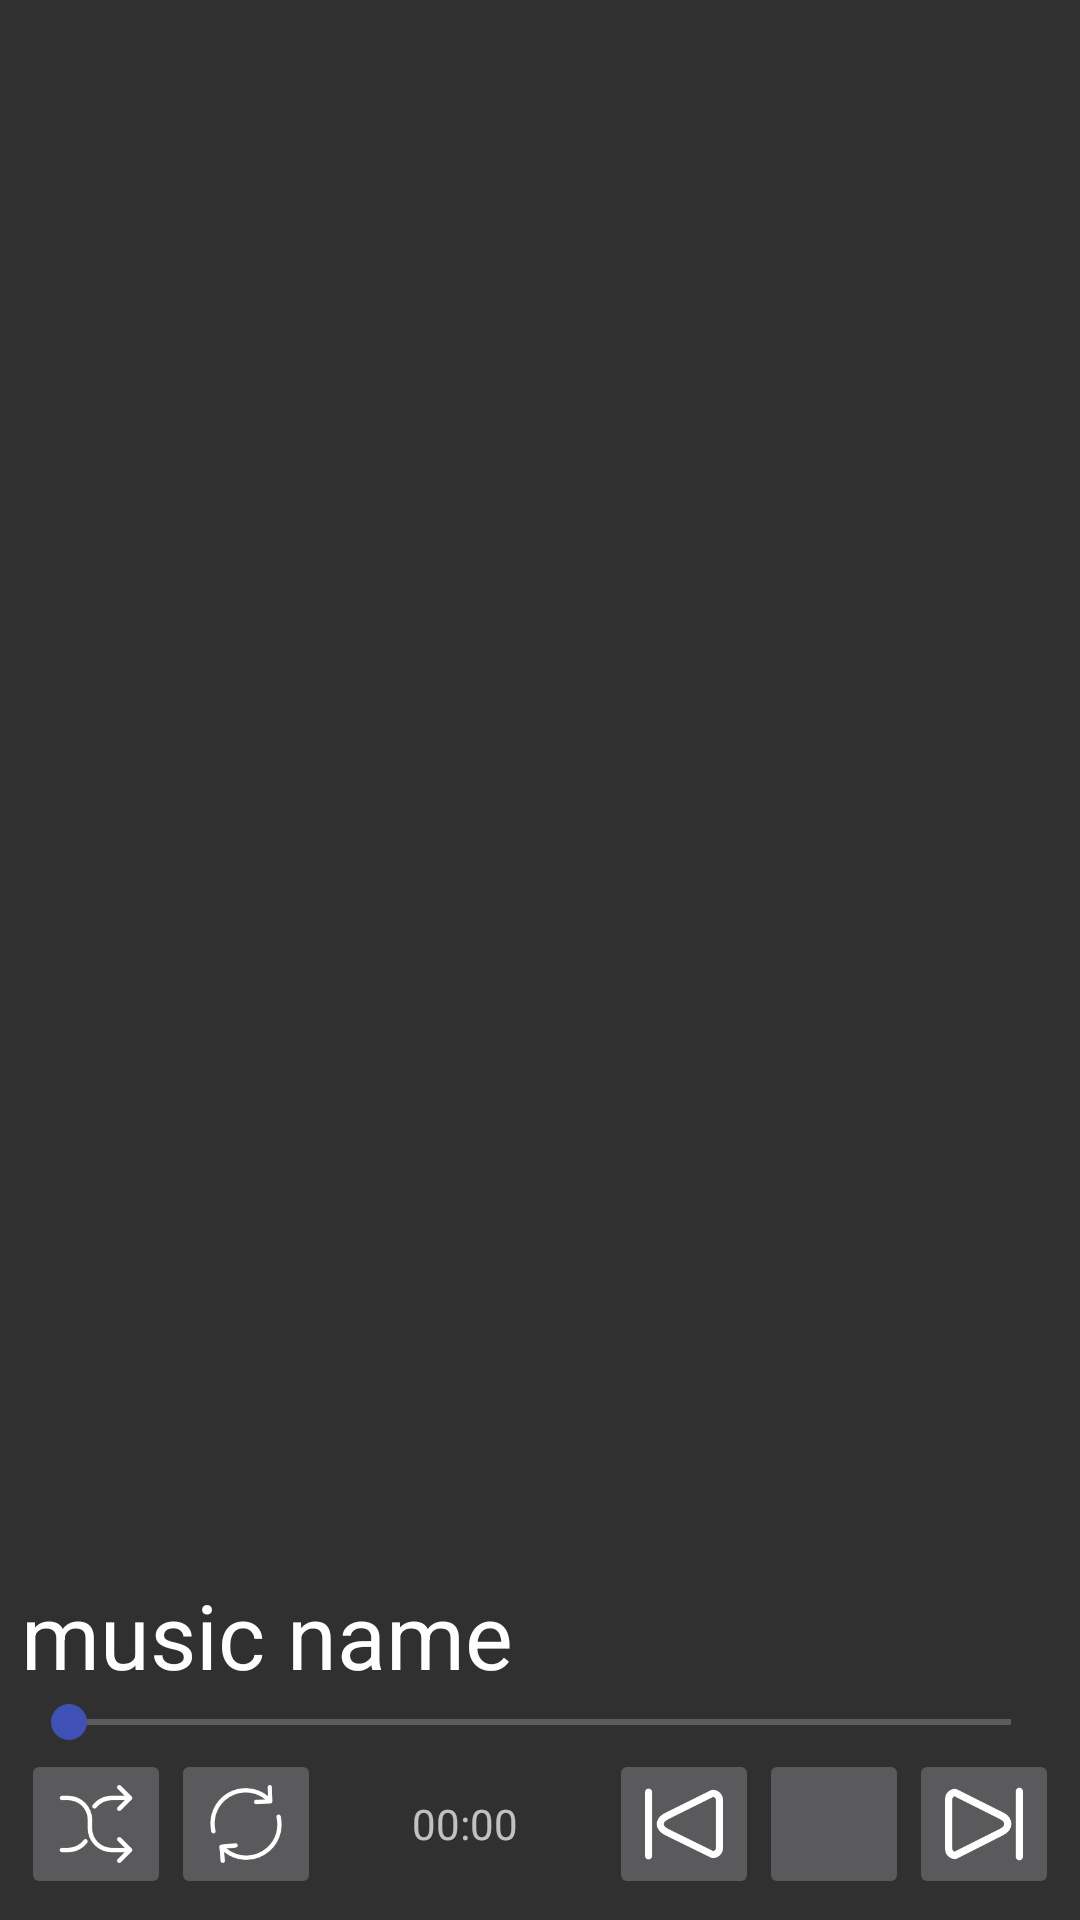

Named icons in this screenshot (1080 × 1920) and their bounding boxes, (x1, y1, x2, y2):
next: (921, 1767, 1047, 1881)
previous: (621, 1767, 747, 1881)
random: (33, 1767, 159, 1881)
repeat: (183, 1767, 309, 1881)
